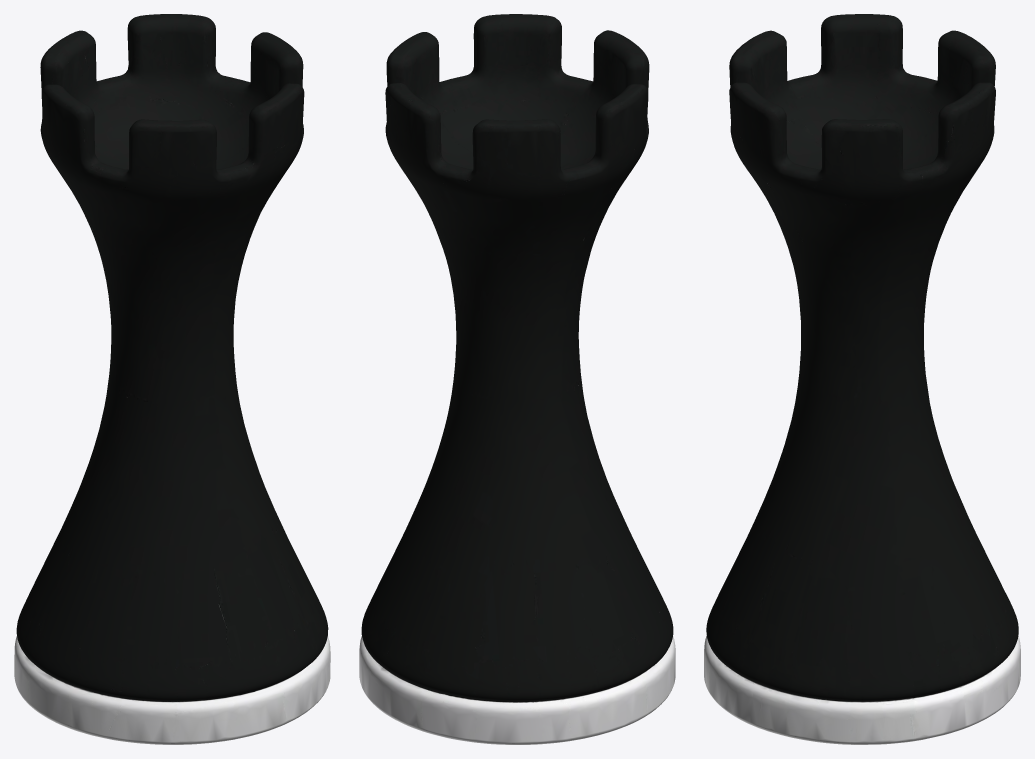
Rendered from rook-black-hd.glb.
The picture shows the model from 3 angles, left to right: view 1: azimuth 30°, elevation 25°; view 2: azimuth 150°, elevation 25°; view 3: azimuth 270°, elevation 25°; orthographic projection.
Bounding box in the file's own units: 0.5161 × 1.1 × 0.5163.
Materials: 1 (1 with a texture image).
